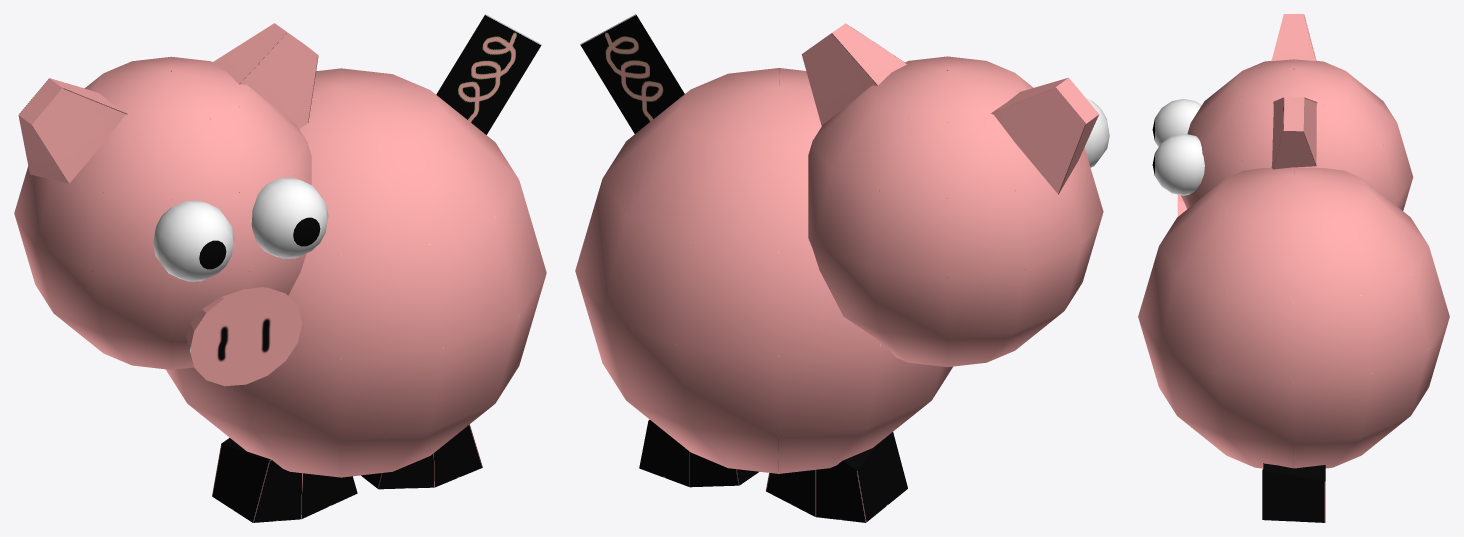
File: pig.glb
3 renders of one model, left to right at view 1: azimuth 30°, elevation 25°; view 2: azimuth 150°, elevation 25°; view 3: azimuth 270°, elevation 25°, orthographic. The views are drawn at different scales.
Visible parts, largest first — view 1: Body, Head, Snout, Right ear, Right hoof, Plane, Left ear, Right eye, Left eye, Left hoof; view 2: Body, Head, Right hoof, Right ear, Plane, Left ear, Left hoof, Right eye; view 3: Body, Head, Left hoof, Left ear, Left eye, Right ear, Right eye.
Boxes of the visible parts, x1,y1,x2,y2 form: Body: (166,68,546,477); Head: (14,56,311,369); Snout: (186,287,302,386); Right ear: (18,78,127,183); Right hoof: (212,438,357,522); Plane: (436,14,541,134); Left ear: (211,23,318,128); Right eye: (153,200,234,281); Left eye: (251,177,328,258); Left hoof: (361,424,482,489); Body: (575,68,952,473); Head: (808,56,1103,367); Right hoof: (765,432,907,522); Right ear: (991,77,1099,194); Plane: (580,14,684,133); Left ear: (801,23,906,125); Left hoof: (639,419,759,487); Right eye: (1084,98,1109,167); Body: (1138,167,1449,468); Head: (1181,59,1413,210); Left hoof: (1262,463,1325,522); Left ear: (1271,97,1317,169); Left eye: (1152,133,1204,195); Right ear: (1271,14,1316,61); Right eye: (1152,99,1201,146).
Bounding box in the file's own units: 5.24 × 4.65 × 3.61.
7 materials, 7 textured.
